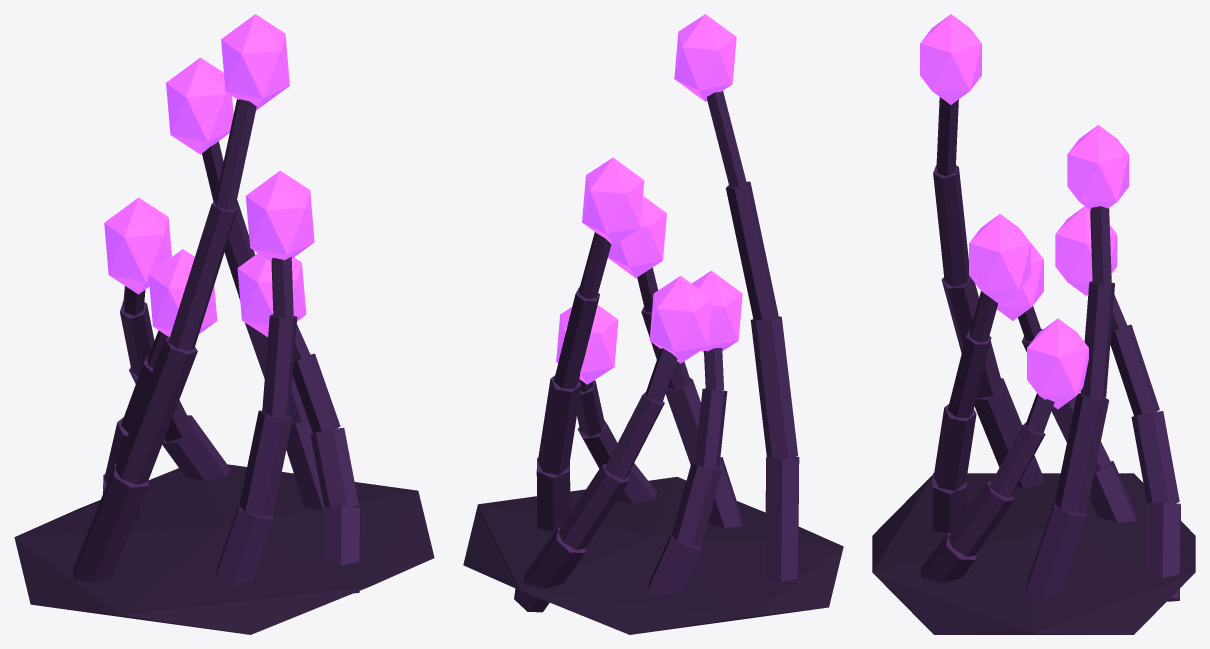
The model's file is mire_tendril_b.glb.
3 views of the same model, side by side, from view 1: azimuth 30°, elevation 25°; view 2: azimuth 150°, elevation 25°; view 3: azimuth 270°, elevation 25° (orthographic). The views are drawn at different scales.
Parts seen in each view (by area): view 1: Mire_Base.007, Tendril_4_2, Bud_4, Bud_5, Bud_1.001, Bud_2.001, Tendril_4_1, Tendril_4_3, Tendril_5_2, Bud_6, Bud_3.001, Tendril_5_1 (+15 smaller); view 2: Mire_Base.007, Tendril_4_2, Tendril_4_1, Bud_1.001, Bud_4, Bud_2.001, Tendril_4_3, Tendril_1_2.001, Tendril_2_2.001, Bud_5, Tendril_3_2.001, Tendril_2_1.001 (+18 smaller); view 3: Mire_Base.007, Bud_4, Bud_5, Bud_1.001, Bud_6, Tendril_1_2.001, Tendril_1_1.001, Tendril_4_3, Tendril_2_2.001, Tendril_1_3.001, Bud_2.001, Tendril_4_1 (+17 smaller).
Boxes of the visible parts, left/top/right/bottom form: Mire_Base.007: left=14, top=464, right=434, bottom=634; Tendril_4_2: left=115, top=337, right=197, bottom=484; Bud_4: left=221, top=14, right=289, bottom=110; Bud_5: left=245, top=170, right=314, bottom=261; Bud_1.001: left=166, top=57, right=233, bottom=154; Bud_2.001: left=104, top=197, right=171, bottom=294; Tendril_4_1: left=73, top=464, right=148, bottom=582; Tendril_4_3: left=168, top=200, right=237, bottom=350; Tendril_5_2: left=239, top=410, right=292, bottom=515; Bud_6: left=237, top=253, right=306, bottom=337; Bud_3.001: left=148, top=249, right=217, bottom=337; Tendril_5_1: left=215, top=504, right=272, bottom=585; Mire_Base.007: left=463, top=477, right=843, bottom=634; Tendril_4_2: left=750, top=316, right=797, bottom=458; Tendril_4_1: left=765, top=457, right=799, bottom=581; Bud_1.001: left=582, top=157, right=644, bottom=245; Bud_4: left=674, top=14, right=736, bottom=101; Bud_2.001: left=649, top=276, right=711, bottom=363; Tendril_4_3: left=726, top=181, right=778, bottom=320; Tendril_1_2.001: left=538, top=375, right=581, bottom=475; Tendril_2_2.001: left=558, top=464, right=628, bottom=549; Bud_5: left=608, top=196, right=666, bottom=278; Tendril_3_2.001: left=671, top=462, right=721, bottom=546; Tendril_2_1.001: left=514, top=527, right=585, bottom=612; Mire_Base.007: left=872, top=473, right=1195, bottom=634; Bud_4: left=920, top=14, right=981, bottom=104; Bud_5: left=969, top=214, right=1030, bottom=304; Bud_1.001: left=1067, top=125, right=1129, bottom=209; Bud_6: left=1027, top=318, right=1088, bottom=409; Tendril_1_2.001: left=1054, top=393, right=1109, bottom=513; Tendril_1_1.001: left=1025, top=502, right=1086, bottom=597; Tendril_4_3: left=933, top=165, right=969, bottom=286; Tendril_2_2.001: left=1131, top=411, right=1179, bottom=503; Tendril_1_3.001: left=1080, top=281, right=1114, bottom=398; Bud_2.001: left=1055, top=206, right=1117, bottom=295; Tendril_4_1: left=974, top=378, right=1043, bottom=488.
Bounding box in the file's own units: 1.5 × 2.2 × 1.16.
